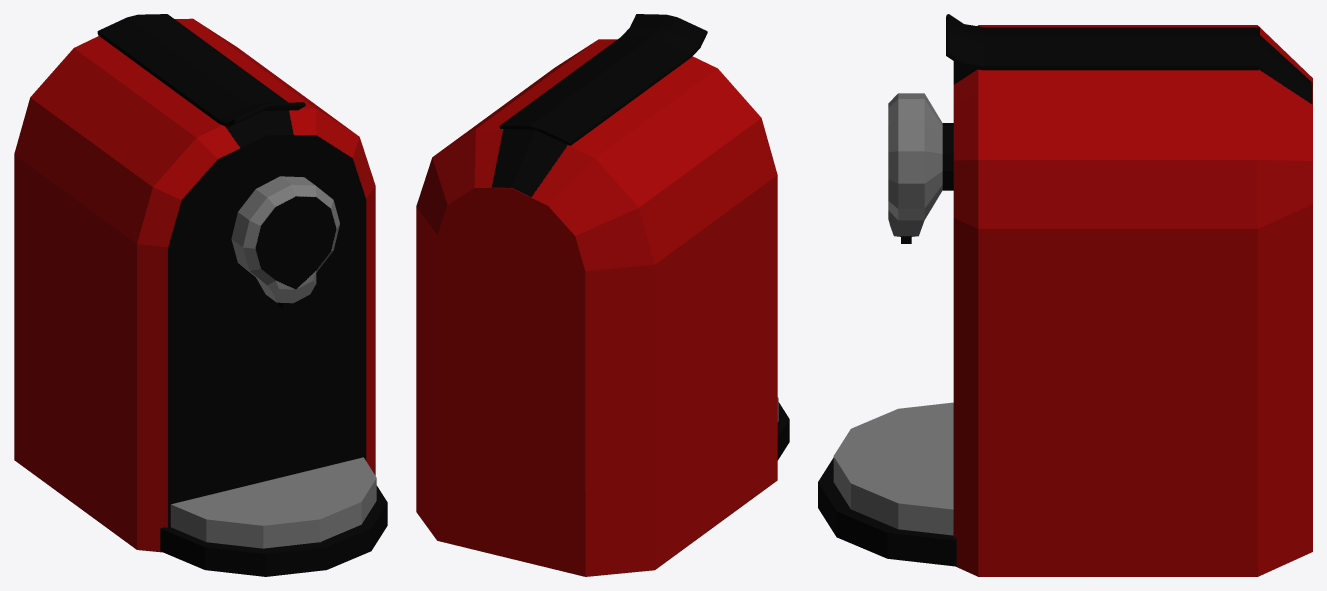
File: MacchinettaCaffe.fbx
3 renders of one model, left to right at view 1: azimuth 30°, elevation 25°; view 2: azimuth 150°, elevation 25°; view 3: azimuth 270°, elevation 25°, orthographic. The views are drawn at different scales.
Visible parts, largest first — view 1: MacchinettaCaffè, CoperchioCialde; view 2: MacchinettaCaffè, CoperchioCialde; view 3: MacchinettaCaffè, CoperchioCialde.
Boxes of the visible parts, x1=… form: MacchinettaCaffè: x1=14, y1=18, x2=387, y2=576; CoperchioCialde: x1=97, y1=14, x2=305, y2=127; MacchinettaCaffè: x1=416, y1=39, x2=789, y2=576; CoperchioCialde: x1=499, y1=14, x2=707, y2=145; MacchinettaCaffè: x1=818, y1=25, x2=1312, y2=576; CoperchioCialde: x1=946, y1=14, x2=1259, y2=70.
Bounding box in the file's own units: 175 × 298 × 275.
